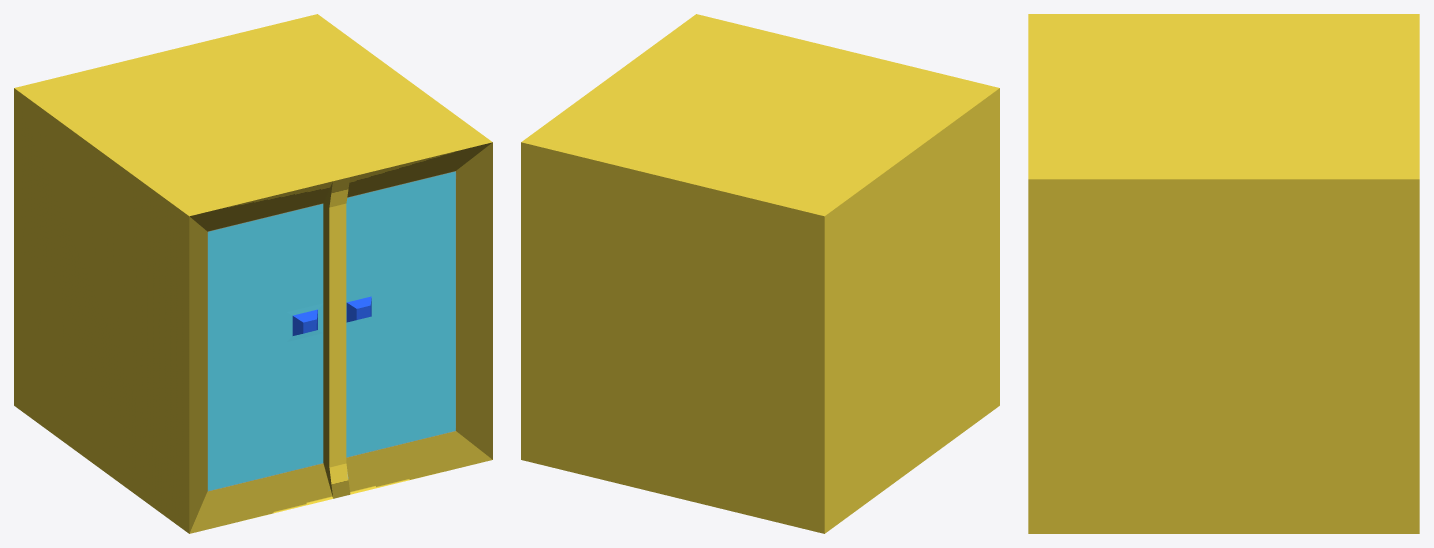
The model's file is Kitchen_Middle.fbx.
3 views of the same model, side by side, from view 1: azimuth 30°, elevation 25°; view 2: azimuth 150°, elevation 25°; view 3: azimuth 270°, elevation 25° (orthographic). The views are drawn at different scales.
Visible parts, largest first — view 1: Cube.001; view 2: Cube.001; view 3: Cube.001.
Part boxes in pixels (<box>): Cube.001: <box>14,14,492,533</box>; Cube.001: <box>521,14,999,533</box>; Cube.001: <box>1028,14,1419,533</box>.
Bounding box in the file's own units: 200 × 200 × 200.
